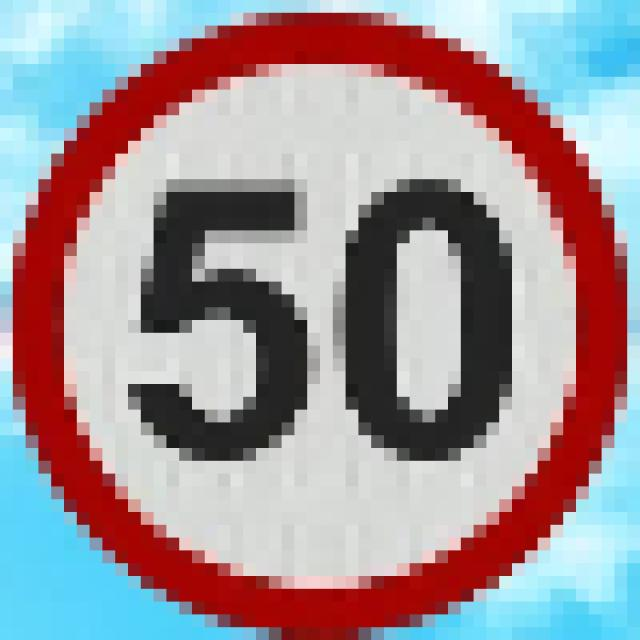Limite-50: (9, 9, 631, 640)
